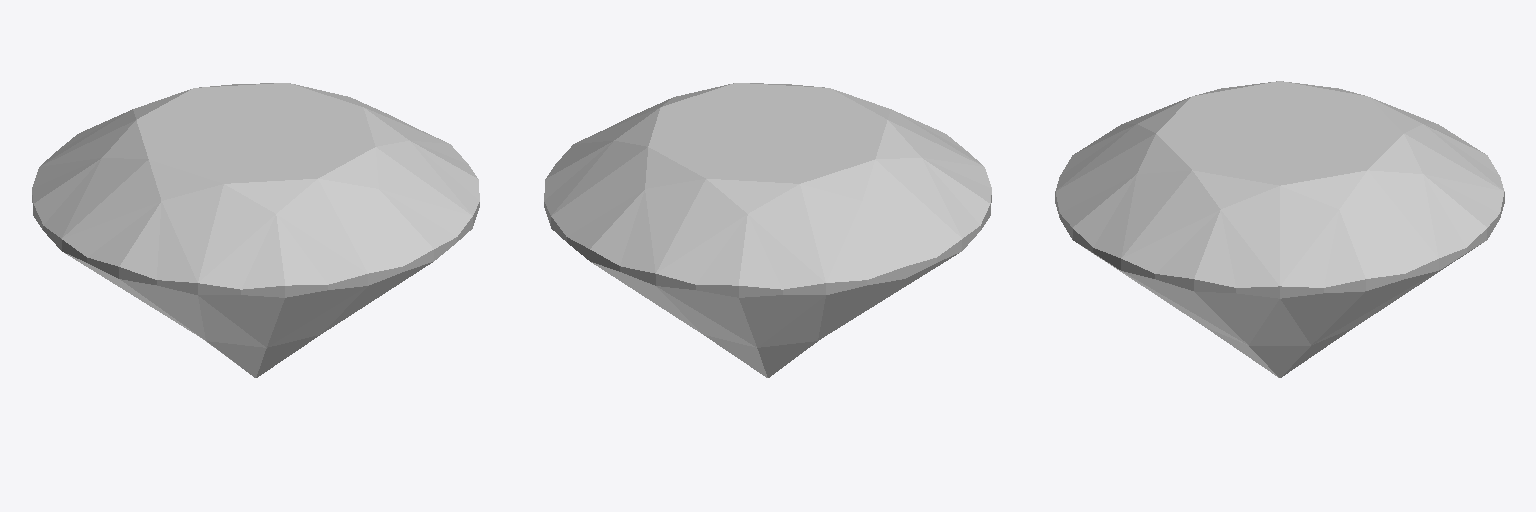
The model's file is round_cut.obj.
3 views of the same model, side by side, from view 1: azimuth 30°, elevation 25°; view 2: azimuth 150°, elevation 25°; view 3: azimuth 270°, elevation 25° (orthographic).
Visible parts, largest first — view 1: Diamond_Round_Cut; view 2: Diamond_Round_Cut; view 3: Diamond_Round_Cut.
Part boxes in pixels (x1,y1,x2,y2): Diamond_Round_Cut: (32,83,479,377); Diamond_Round_Cut: (544,83,991,377); Diamond_Round_Cut: (1055,81,1504,377).
Bounding box in the file's own units: 5.1 × 3.07 × 5.1.